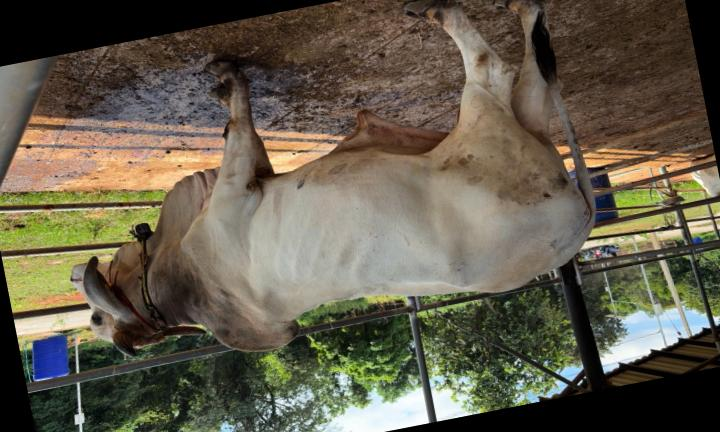Brahman: (71, 0, 595, 356)
